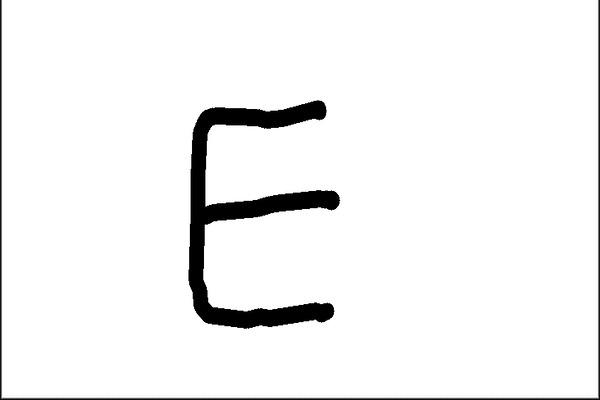E: (182, 95, 347, 335)
